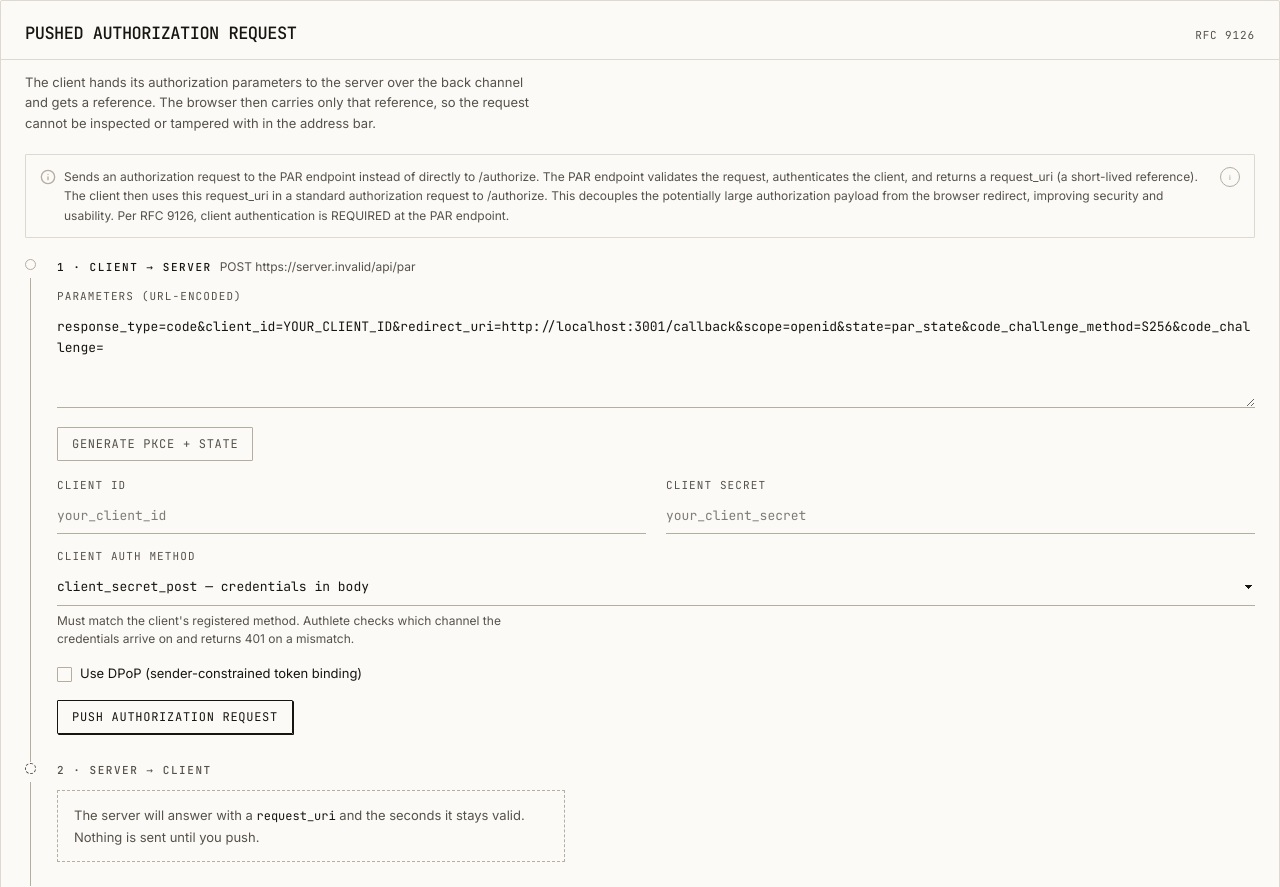
ParSection — the response it reads back › renders the request_uri from the specification-shaped body
In the field labelled "Client ID": (352, 516) 57,499 -> 646,534, type "1523514379"
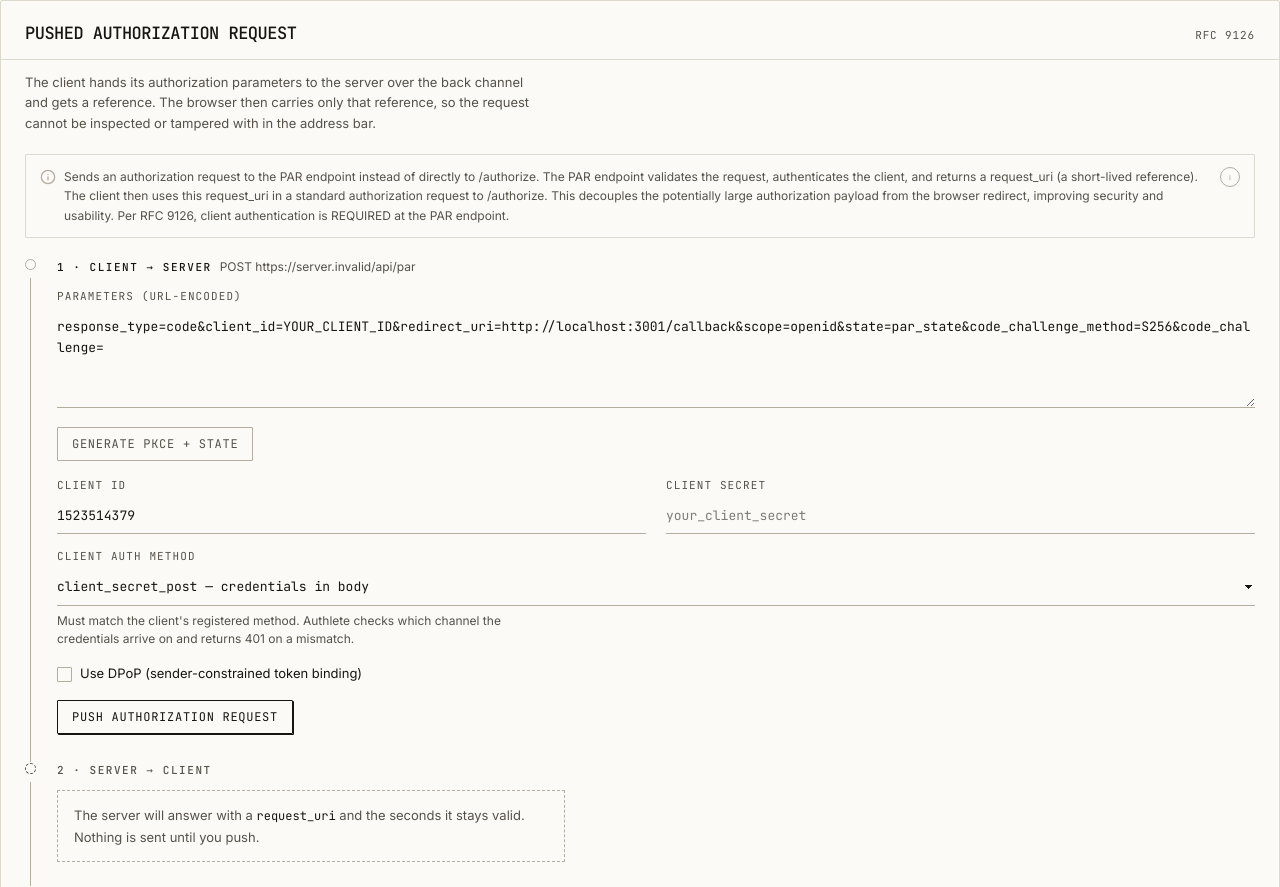
Click the button "Push Authorization Request": (175, 717) 57,700 -> 293,734
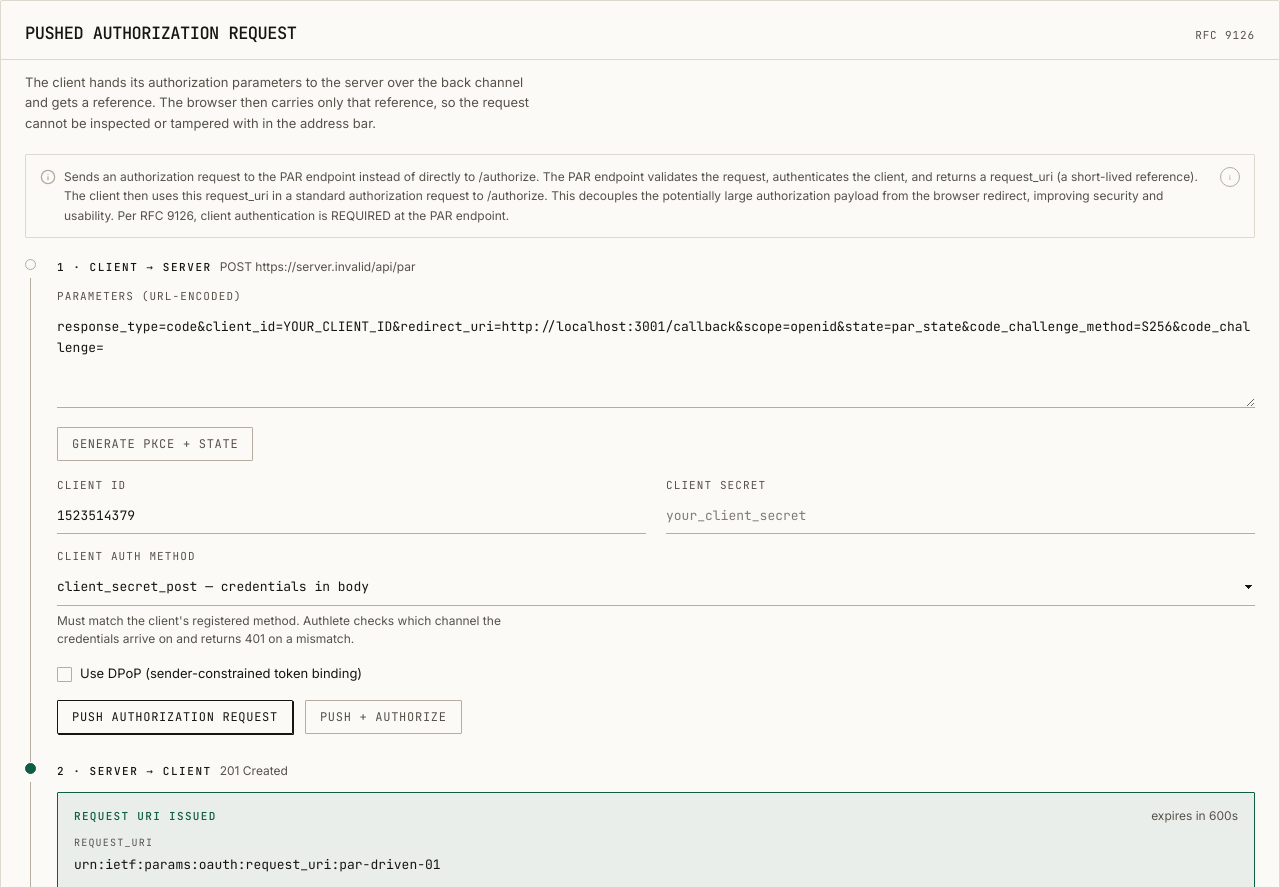
expect the text "urn:ietf:params:oauth:request_uri:par-driven-01" is shown: met, box 74,856 -> 441,873
expect the text "expires in 600s" is shown: met, box 1151,807 -> 1238,825
